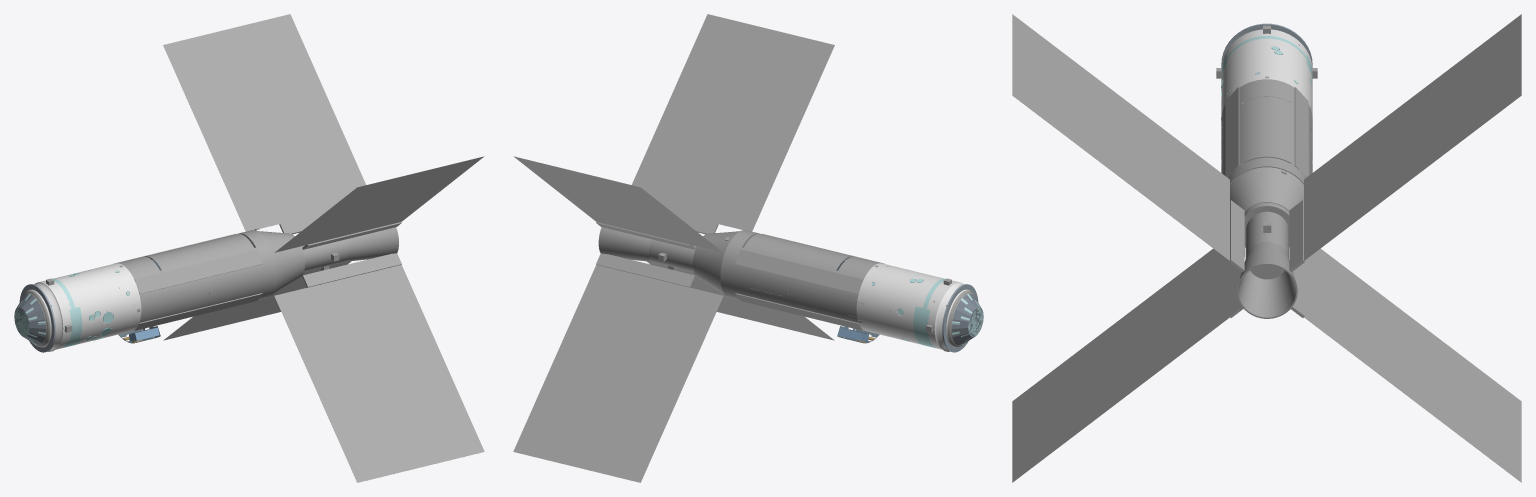
Rendered from wayfarer_bay_fullship_88ce19fc_stowed_closed.glb.
The picture shows the model from 3 angles, left to right: view 1: azimuth 30°, elevation 25°; view 2: azimuth 150°, elevation 25°; view 3: azimuth 270°, elevation 25°; orthographic projection. The views are drawn at different scales.
Visible parts, largest first — view 1: dry:hotfin_220:folded_envelope, dry:hotfin_40:folded_envelope, dry:hotfin_140:folded_envelope, dry:armor, dry:skin_midship, dry:hotfin_320:folded_envelope, dry:strake_140:stowed_stack, dry:thrust_cone, dry:skin_service, dry:door_port, dry:hotfin_root_220:root, dry:nozzle (+4 smaller); view 2: dry:hotfin_320:folded_envelope, dry:hotfin_140:folded_envelope, dry:hotfin_40:folded_envelope, dry:armor, dry:skin_midship, dry:hotfin_220:folded_envelope, dry:strake_40:stowed_stack, dry:skin_service, dry:thrust_cone, dry:door_starboard, dry:hotfin_root_320:root, dry:nozzle (+4 smaller); view 3: dry:hotfin_40:folded_envelope, dry:hotfin_140:folded_envelope, dry:hotfin_220:folded_envelope, dry:hotfin_320:folded_envelope, dry:armor, dry:nozzle, dry:thrust_cone, dry:reactor, dry:door_port, dry:door_starboard, dry:skin_service, dry:strake_40:stowed_stack (+7 smaller).
Part boxes in pixels (x1=…): dry:hotfin_220:folded_envelope: x1=274, y1=264, x2=484, y2=482; dry:hotfin_40:folded_envelope: x1=163, y1=14, x2=365, y2=231; dry:hotfin_140:folded_envelope: x1=274, y1=156, x2=484, y2=252; dry:armor: x1=23, y1=263, x2=141, y2=350; dry:skin_midship: x1=160, y1=247, x2=263, y2=316; dry:hotfin_320:folded_envelope: x1=163, y1=261, x2=351, y2=340; dry:strake_140:stowed_stack: x1=134, y1=249, x2=262, y2=293; dry:thrust_cone: x1=258, y1=231, x2=304, y2=293; dry:skin_service: x1=117, y1=256, x2=168, y2=330; dry:door_port: x1=152, y1=236, x2=253, y2=270; dry:hotfin_root_220:root: x1=302, y1=253, x2=401, y2=287; dry:nozzle: x1=345, y1=227, x2=398, y2=261; dry:hotfin_320:folded_envelope: x1=513, y1=264, x2=723, y2=482; dry:hotfin_140:folded_envelope: x1=632, y1=14, x2=834, y2=231; dry:hotfin_40:folded_envelope: x1=513, y1=156, x2=723, y2=252; dry:armor: x1=856, y1=263, x2=974, y2=350; dry:skin_midship: x1=734, y1=247, x2=837, y2=316; dry:hotfin_220:folded_envelope: x1=647, y1=261, x2=834, y2=340; dry:strake_40:stowed_stack: x1=735, y1=249, x2=863, y2=293; dry:skin_service: x1=829, y1=256, x2=880, y2=330; dry:thrust_cone: x1=693, y1=231, x2=739, y2=293; dry:door_starboard: x1=744, y1=236, x2=845, y2=270; dry:hotfin_root_320:root: x1=596, y1=253, x2=695, y2=287; dry:nozzle: x1=598, y1=227, x2=652, y2=261; dry:hotfin_40:folded_envelope: x1=1304, y1=14, x2=1521, y2=260; dry:hotfin_140:folded_envelope: x1=1012, y1=14, x2=1229, y2=260; dry:hotfin_220:folded_envelope: x1=1012, y1=248, x2=1229, y2=482; dry:hotfin_320:folded_envelope: x1=1304, y1=248, x2=1521, y2=482; dry:armor: x1=1221, y1=29, x2=1312, y2=117; dry:nozzle: x1=1237, y1=242, x2=1297, y2=318; dry:thrust_cone: x1=1230, y1=167, x2=1303, y2=247; dry:reactor: x1=1245, y1=211, x2=1288, y2=279; dry:door_port: x1=1242, y1=97, x2=1266, y2=163; dry:door_starboard: x1=1267, y1=97, x2=1291, y2=163; dry:skin_service: x1=1221, y1=79, x2=1312, y2=135; dry:strake_40:stowed_stack: x1=1294, y1=87, x2=1308, y2=177.
Size of the model in its own units: 54.5 by 42.11 by 50.18.
